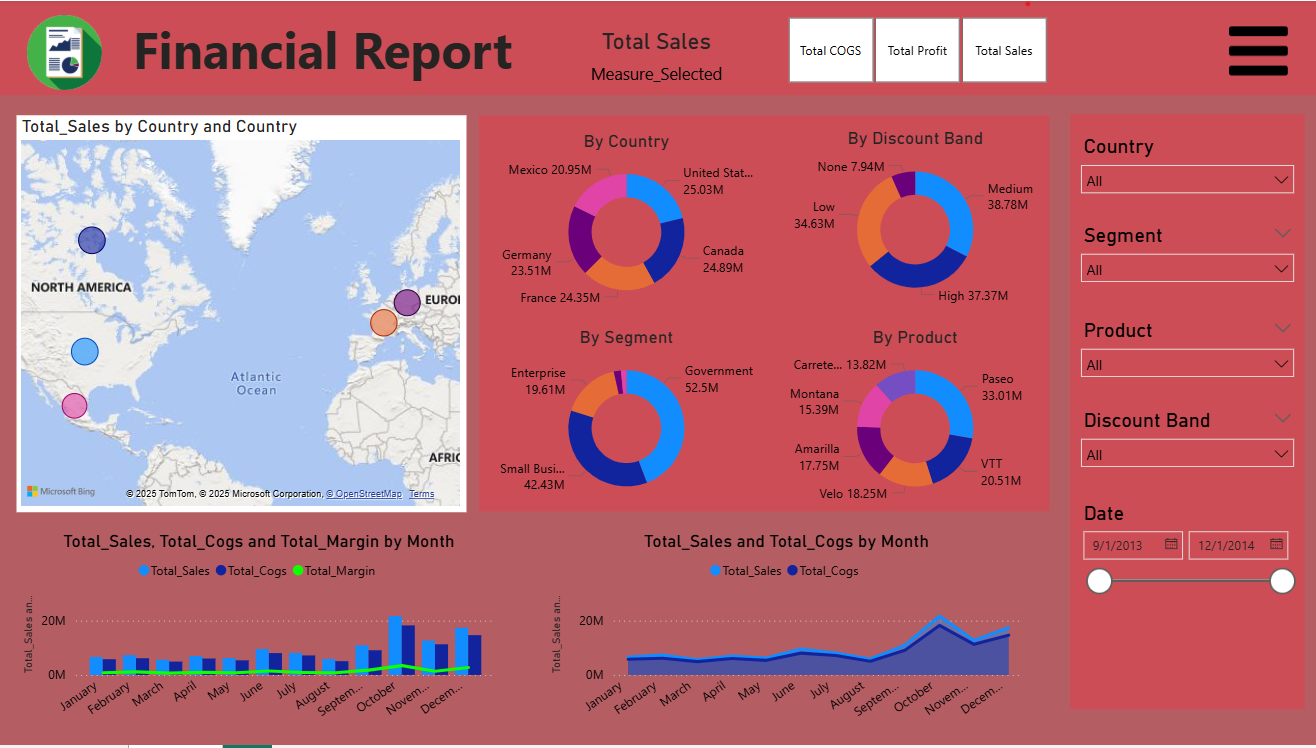

The dashboard page shown, as its layout file describes it:
{"tool":"powerbi","page":{"name":"Page 1","canvas":[1280,720],"ordinal":0},"visuals":[{"type":"shape","box":[1039.3,111.3,226.8,574.6],"z":0},{"type":"shape","box":[468.5,111.7,550.6,382.3],"z":1000},{"type":"shape","box":[0,0,1280.3,92.9],"z":2000},{"type":"textbox","box":[9.4,10.8,958.5,82.1],"z":3000},{"type":"image","box":[0,10.8,136,82.1],"z":4000},{"type":"slicer","fields":{"Values":["Metrics.Measure"]},"box":[740.4,10.8,298.9,76.7],"z":10000},{"type":"card","fields":{"Values":["All Measures.Measure_Selected"]},"box":[539.8,16.2,200.6,71.4],"z":11000},{"type":"map","fields":{"Category":["Financials.Country"],"Size":["All Measures.Total_Sales"],"Series":["Financials.Country"]},"box":[21.5,111.7,433.5,382.3],"z":12000},{"type":"donutChart","title":"By Country","fields":{"Category":["Financials.Country"],"Y":["All Measures.Measure_Logic"]},"box":[482,126.5,258.5,177.7],"z":13000},{"type":"donutChart","title":"By Discount Band","fields":{"Y":["All Measures.Measure_Logic"],"Category":["Financials.Discount Band"]},"box":[760.6,123.9,258.5,177.7],"z":14000},{"type":"donutChart","title":"By Segment","fields":{"Y":["All Measures.Measure_Logic"],"Category":["Financials.Segment"]},"box":[482,316.4,258.5,177.7],"z":15000},{"type":"donutChart","title":"By Product","fields":{"Y":["All Measures.Measure_Logic"],"Category":["Financials.Product"]},"box":[760.6,316.4,258.5,177.7],"z":16000},{"type":"lineClusteredColumnComboChart","fields":{"Y":["All Measures.Total_Sales","All Measures.Total_Cogs"],"Y2":["All Measures.Total_Margin"],"Category":["Financials.Date.Variation.Date Hierarchy.Month"]},"box":[22.9,512.9,465.8,193.9],"z":17000},{"type":"areaChart","fields":{"Category":["Financials.Date.Variation.Date Hierarchy.Month"],"Y":["All Measures.Total_Sales","All Measures.Total_Cogs"]},"box":[531.8,512.9,465.8,193.9],"z":18000},{"type":"card","fields":{"Values":["All Measures.Total_Sales"]},"box":[1039.3,212.9,226.8,75.1],"z":19000},{"type":"card","fields":{"Values":["All Measures.Total_Cogs"]},"box":[1039.3,303.3,226.8,75.1],"z":20000},{"type":"card","fields":{"Values":["All Measures.Total_Margin"]},"box":[1040.7,393.7,226.8,73.7],"z":21000},{"type":"card","fields":{"Values":["All Measures.Profit %"]},"box":[1042.1,480,226.8,73.7],"z":22000},{"type":"card","fields":{"Values":["All Measures.Gross_Margin"]},"box":[1040.7,559.3,226.8,73.7],"z":23000},{"type":"image","box":[1120,111.3,66.8,66.8],"z":24000}]}

Visuals, with their boxes in screenshot pixels (x1, y1, x2, y2), scaled from the page's 1280x720 canvas onto the 1316x748 screenshot:
shape: box(1069, 116, 1302, 713)
shape: box(482, 116, 1048, 513)
shape: box(0, 0, 1315, 97)
textbox: box(10, 11, 995, 97)
image: box(0, 11, 140, 97)
slicer - Metrics.Measure: box(761, 11, 1069, 91)
card - All Measures.Measure_Selected: box(555, 17, 761, 91)
map - Financials.Country x All Measures.Total_Sales: box(22, 116, 468, 513)
"By Country" donutChart: box(496, 131, 761, 316)
"By Discount Band" donutChart: box(782, 129, 1048, 313)
"By Segment" donutChart: box(496, 329, 761, 513)
"By Product" donutChart: box(782, 329, 1048, 513)
lineClusteredColumnComboChart - All Measures.Total_Sales x All Measures.Total_Cogs: box(24, 533, 502, 734)
areaChart - Financials.Date.Variation.Date Hierarchy.Month x All Measures.Total_Sales: box(547, 533, 1026, 734)
card - All Measures.Total_Sales: box(1069, 221, 1302, 299)
card - All Measures.Total_Cogs: box(1069, 315, 1302, 393)
card - All Measures.Total_Margin: box(1070, 409, 1303, 486)
card - All Measures.Profit %: box(1071, 499, 1305, 575)
card - All Measures.Gross_Margin: box(1070, 581, 1303, 658)
image: box(1152, 116, 1220, 185)
